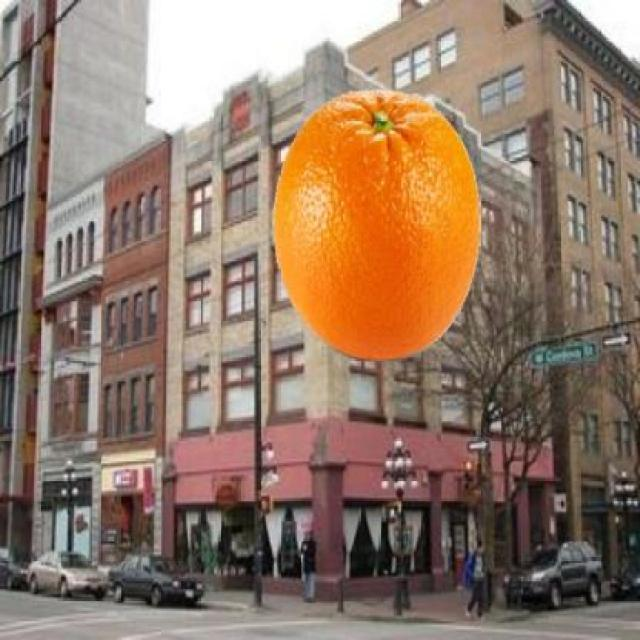Orange: (269, 86, 482, 362)
